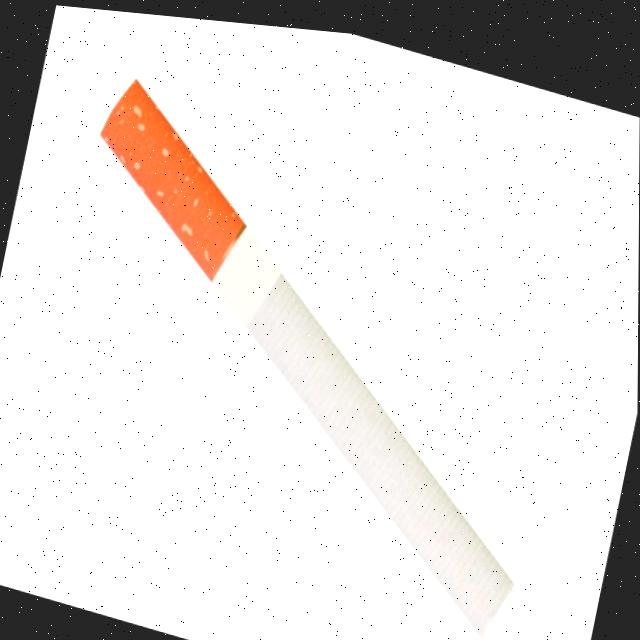cigarette: (99, 79, 516, 640)
